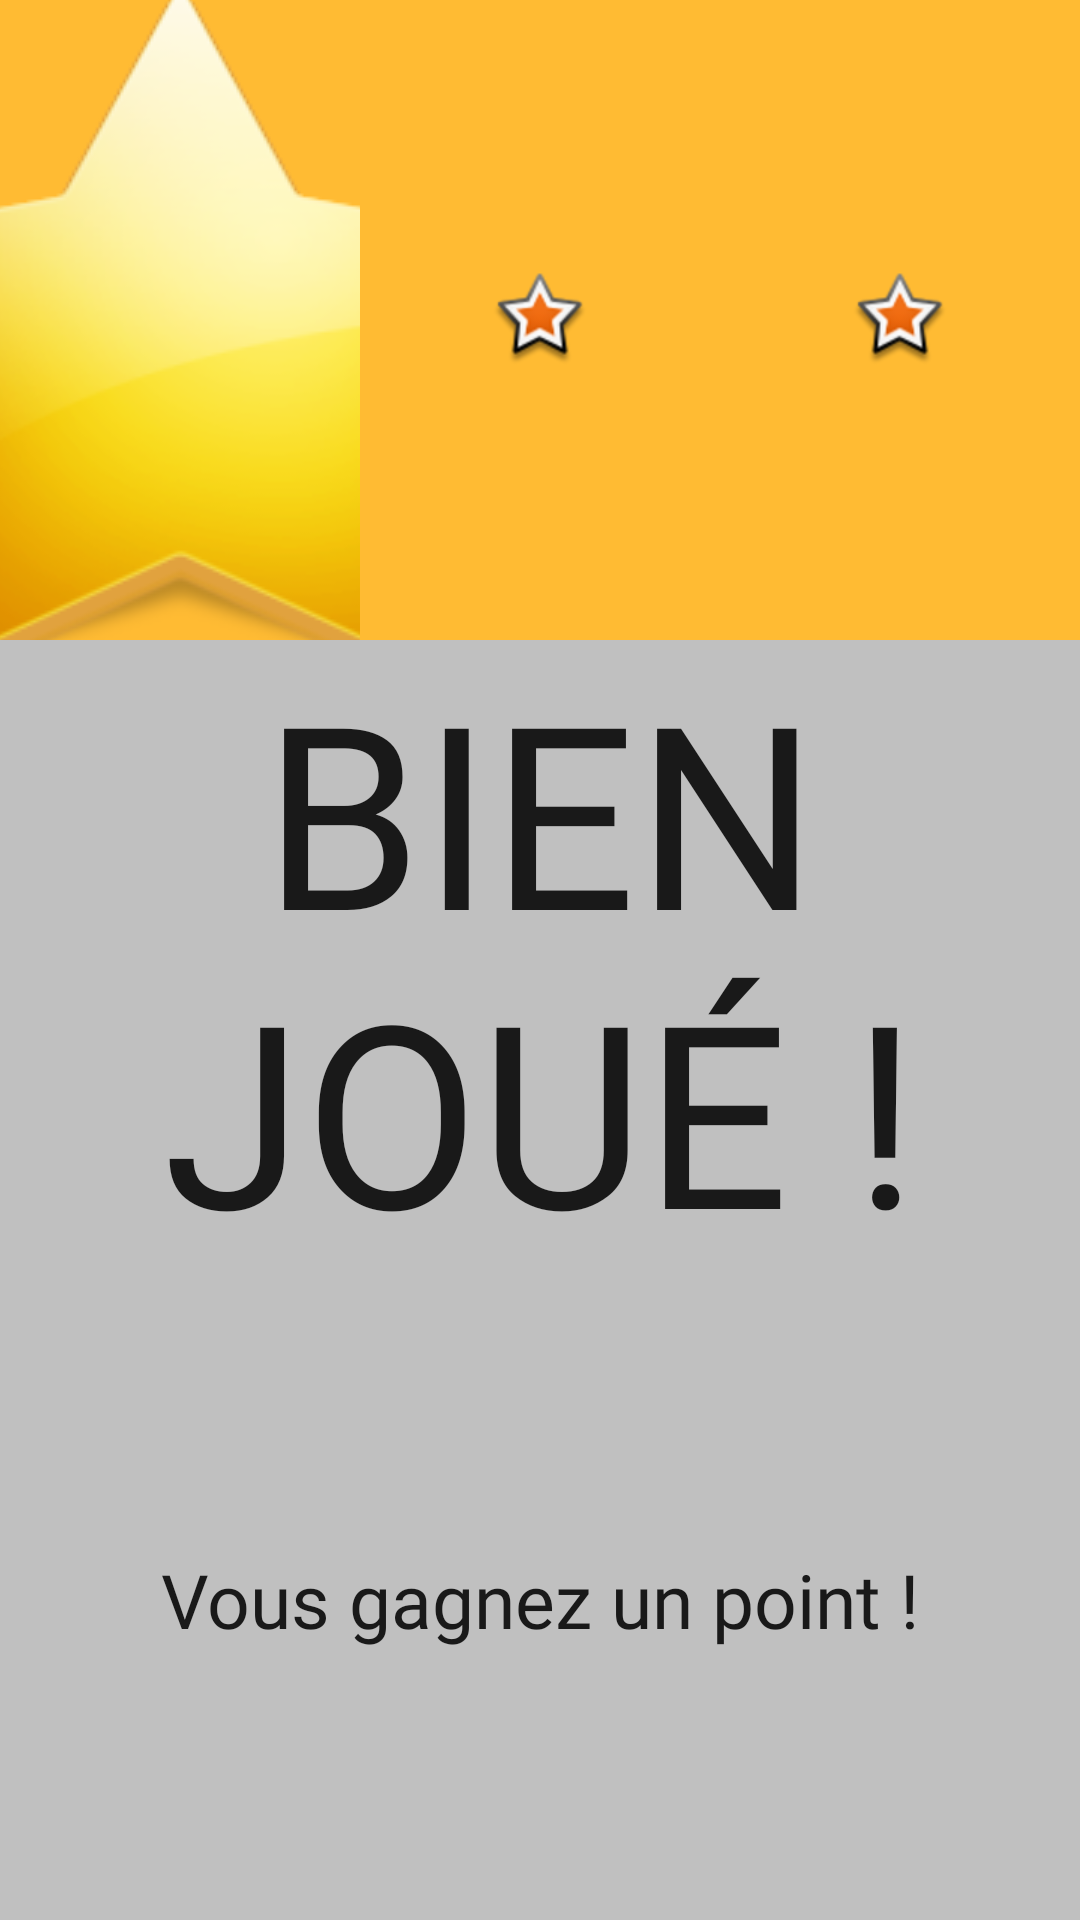

Screen size 1080 x 1920. Icon name, then its center in pixels as point (x, y):
star on: point (540, 316), point (900, 316)
